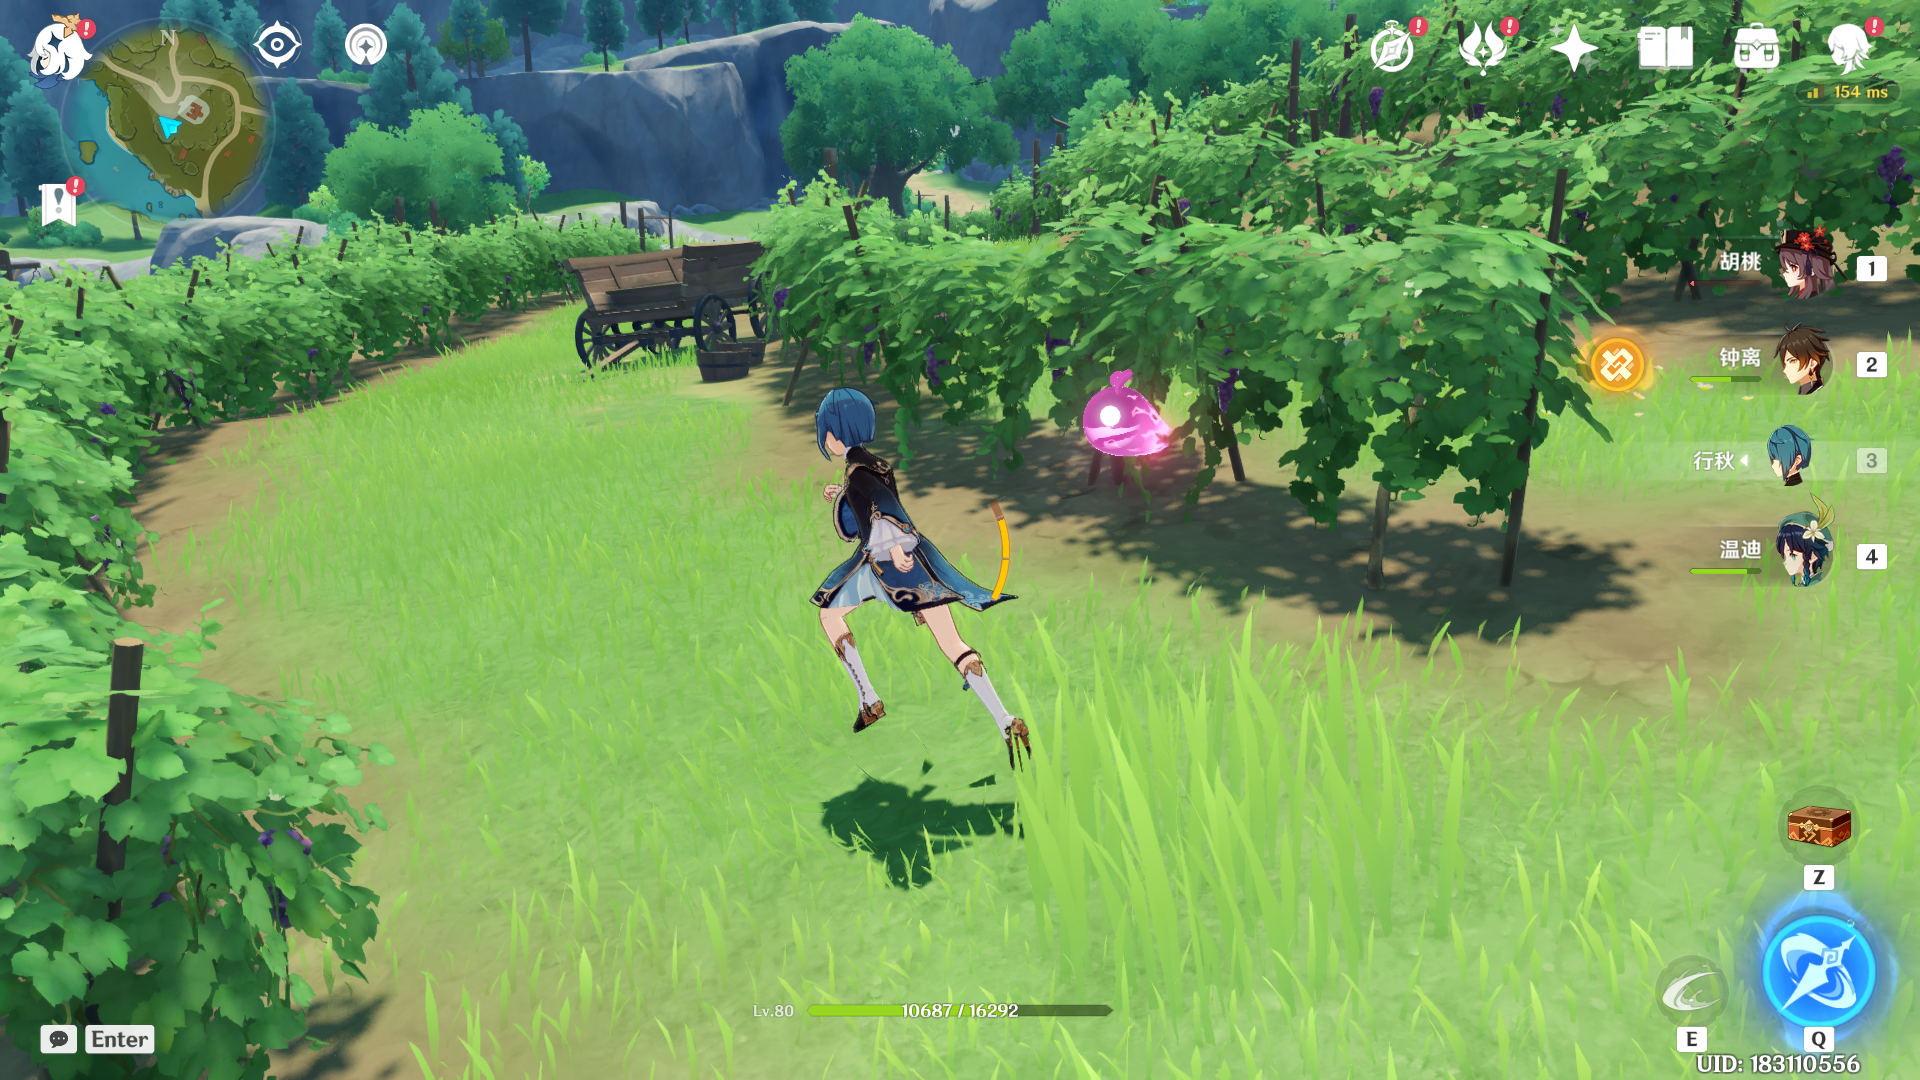character: (737, 360, 1098, 808)
